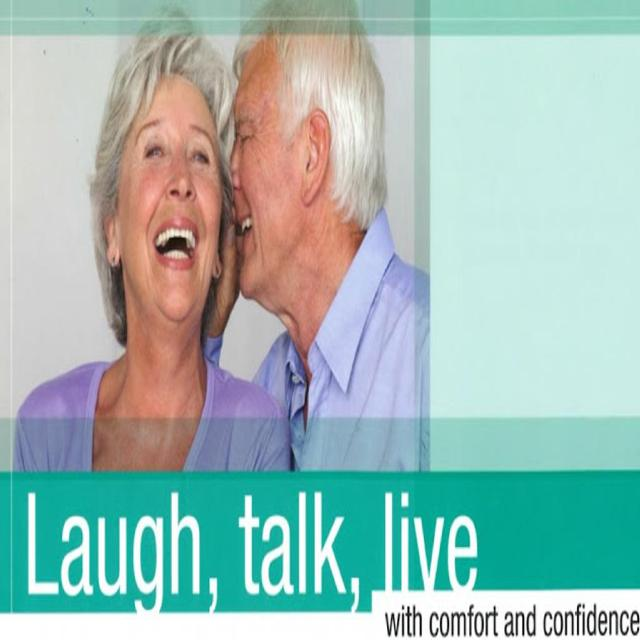Face: (113, 63, 228, 347), (228, 23, 328, 307)
